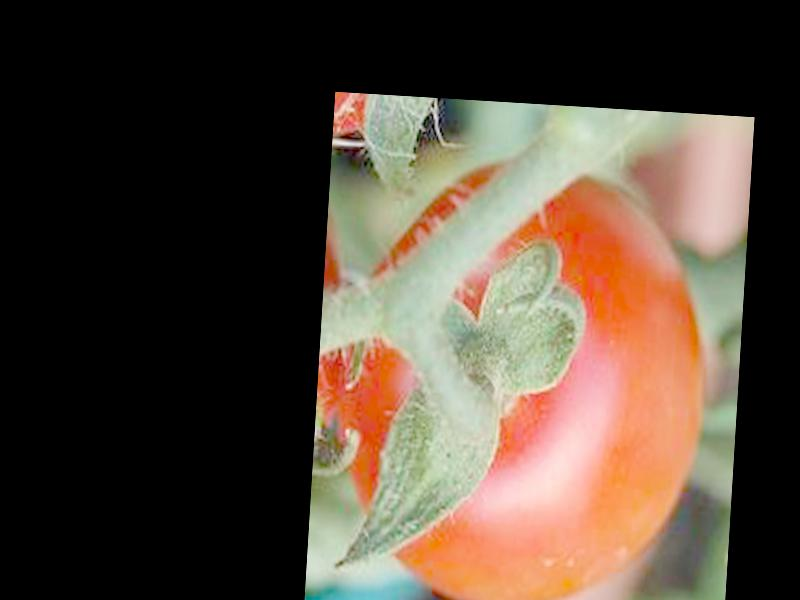Tomato: (314, 147, 716, 600)
